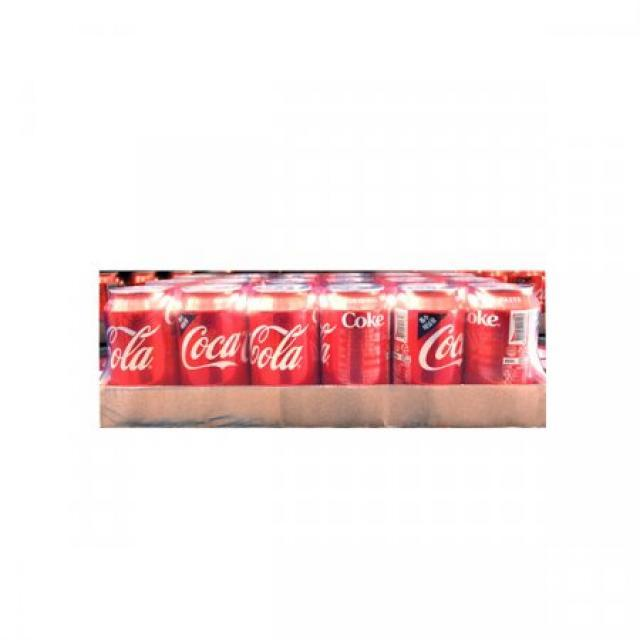coca-cola: (247, 284, 321, 392), (174, 286, 250, 386), (104, 285, 176, 387), (470, 284, 540, 388), (394, 288, 466, 388), (321, 288, 391, 388)
